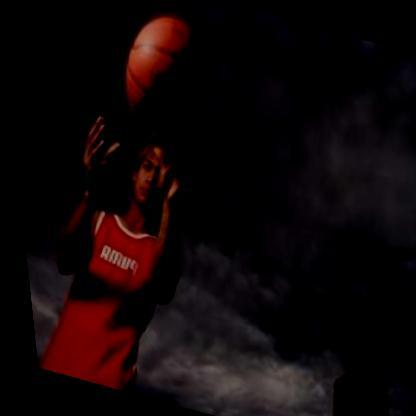basketball: (98, 1, 228, 144)
